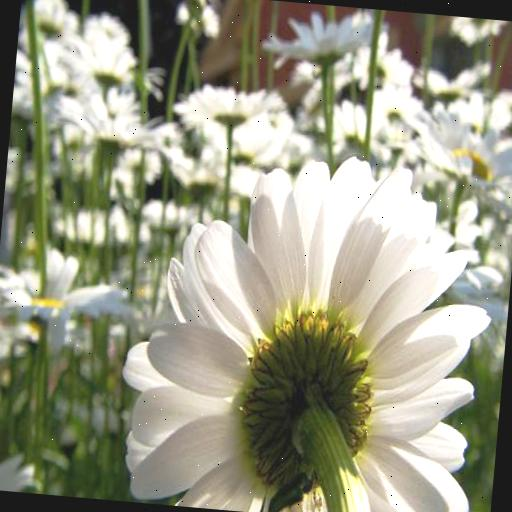daisy: (137, 145, 499, 512), (0, 256, 134, 350), (265, 6, 387, 56), (176, 84, 282, 120)
